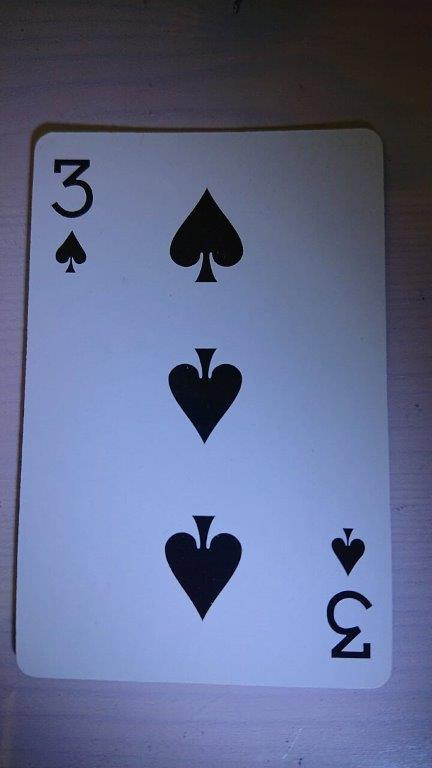3S: (13, 125, 393, 692)
